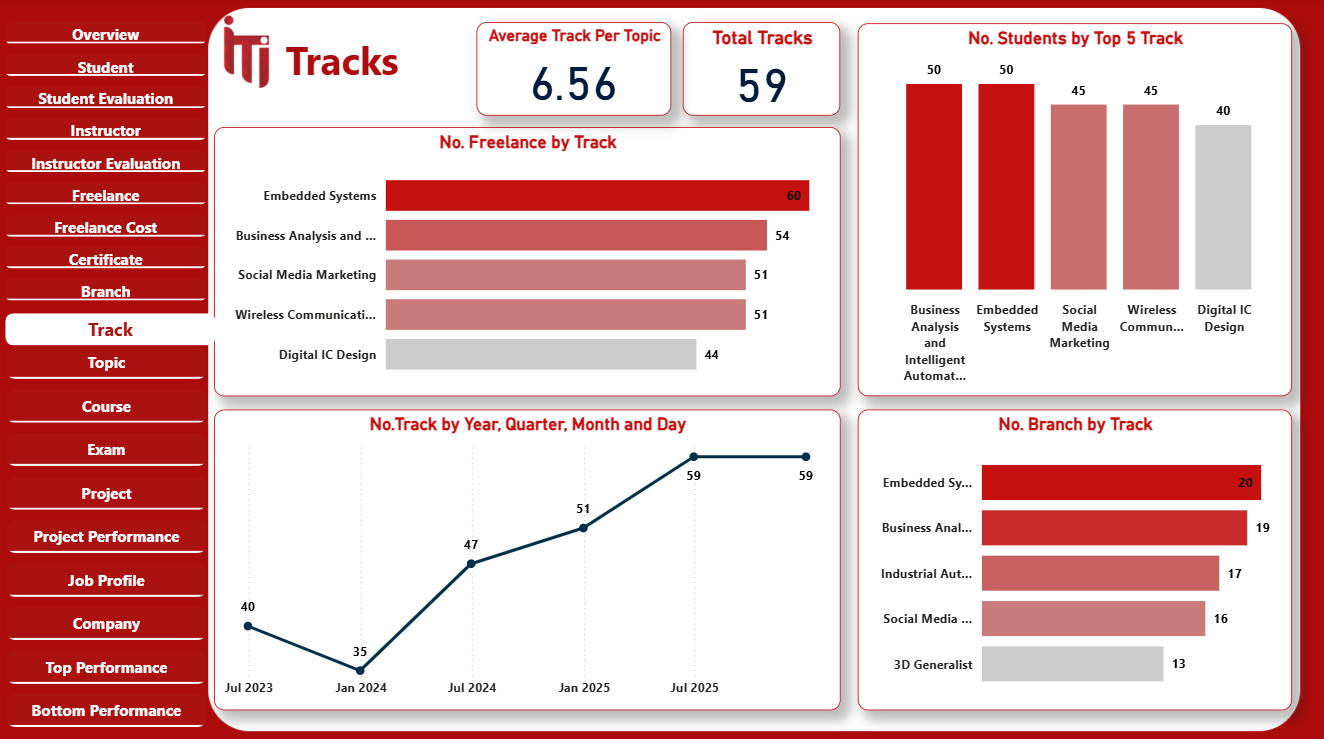

What the dashboard file says about the page in this screenshot:
{"tool":"powerbi","page":{"name":"Track","canvas":[1280,720],"ordinal":9},"visuals":[{"type":"card","title":"Total Tracks","fields":{"Values":["Measures_.Total Tracks"]},"box":[660,24.7,152.3,90.6],"z":0},{"type":"clusteredColumnChart","title":"No. Students by Top 5 Track","fields":{"Category":["vw_Dim_Track.Track_Name"],"Y":["Count(Fact_Student_Performance.st_id)"]},"box":[829.3,25.1,418.8,360.2],"z":1000},{"type":"clusteredBarChart","title":"No. Branch by Track","fields":{"Category":["vw_Dim_Track.Track_Name"],"Y":["Count(Fact_Student_Performance.branch_id)"]},"box":[829.3,397.9,418.8,290.4],"z":2000},{"type":"clusteredBarChart","title":"No. Freelance by Track","fields":{"Category":["vw_Dim_Track.Track_Name"],"Y":["Count(Fact_Student_Performance.fre_id)"]},"box":[208,125.7,604.5,259.7],"z":3000},{"type":"lineChart","title":"No.Track by Year, Quarter, Month and Day","fields":{"Category":["Dim_Intake.End_date.Variation.Date Hierarchy.Year","Dim_Intake.End_date.Variation.Date Hierarchy.Quarter","Dim_Intake.End_date.Variation.Date Hierarchy.Month","Dim_Intake.End_date.Variation.Date Hierarchy.Day"],"Y":["Count(Fact_Student_Performance.track_id)"]},"box":[208,397.9,604.5,290.4],"z":4000},{"type":"card","title":"Average Track Per Topic","fields":{"Values":["Measures_.Avg Tracks per Topic"]},"box":[461.1,24.7,188,90.6],"z":5000},{"type":"textbox","box":[271.7,30.2,157.8,63.1],"z":6000},{"type":"pageNavigator","box":[5.5,24.7,194.9,270.3],"z":7000},{"type":"pageNavigator","box":[5.5,304.6,203.1,31.6],"z":8000},{"type":"pageNavigator","box":[6.9,336.2,193.5,374.6],"z":9000},{"type":"image","box":[196.2,4.1,86.4,89.2],"z":10000}]}

Visuals, with their boxes on the page's 1280x720 design canvas (x1, y1, x2, y2). These are canvas units, not pixel positions in the 1324x739 screenshot, which may show the page scaled, cropped or inside an application window:
"Total Tracks" card: <bbox>660, 25, 812, 115</bbox>
"No. Students by Top 5 Track" clusteredColumnChart: <bbox>829, 25, 1248, 385</bbox>
"No. Branch by Track" clusteredBarChart: <bbox>829, 398, 1248, 688</bbox>
"No. Freelance by Track" clusteredBarChart: <bbox>208, 126, 812, 385</bbox>
"No.Track by Year, Quarter, Month and Day" lineChart: <bbox>208, 398, 812, 688</bbox>
"Average Track Per Topic" card: <bbox>461, 25, 649, 115</bbox>
textbox: <bbox>272, 30, 430, 93</bbox>
pageNavigator: <bbox>6, 25, 200, 295</bbox>
pageNavigator: <bbox>6, 305, 209, 336</bbox>
pageNavigator: <bbox>7, 336, 200, 711</bbox>
image: <bbox>196, 4, 283, 93</bbox>
